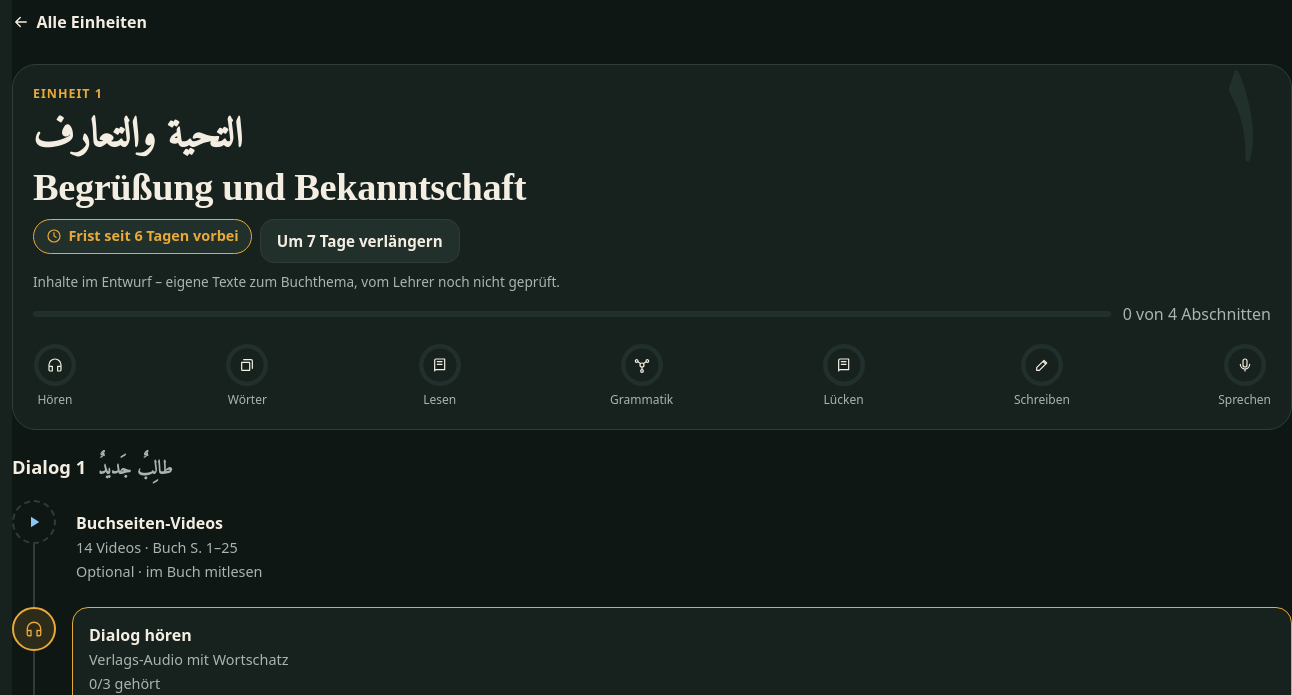
Test: Unit enrollment (integration) › lets an overdue unit be extended once
This screenshot has width=1292, height=695.
Check: the text "Frist seit 6 Tagen vorbei" is shown, box [33,219,252,254]
Click the button "Um 7 Tage verlängern". click: (360, 241)
box: [260,219,460,263]
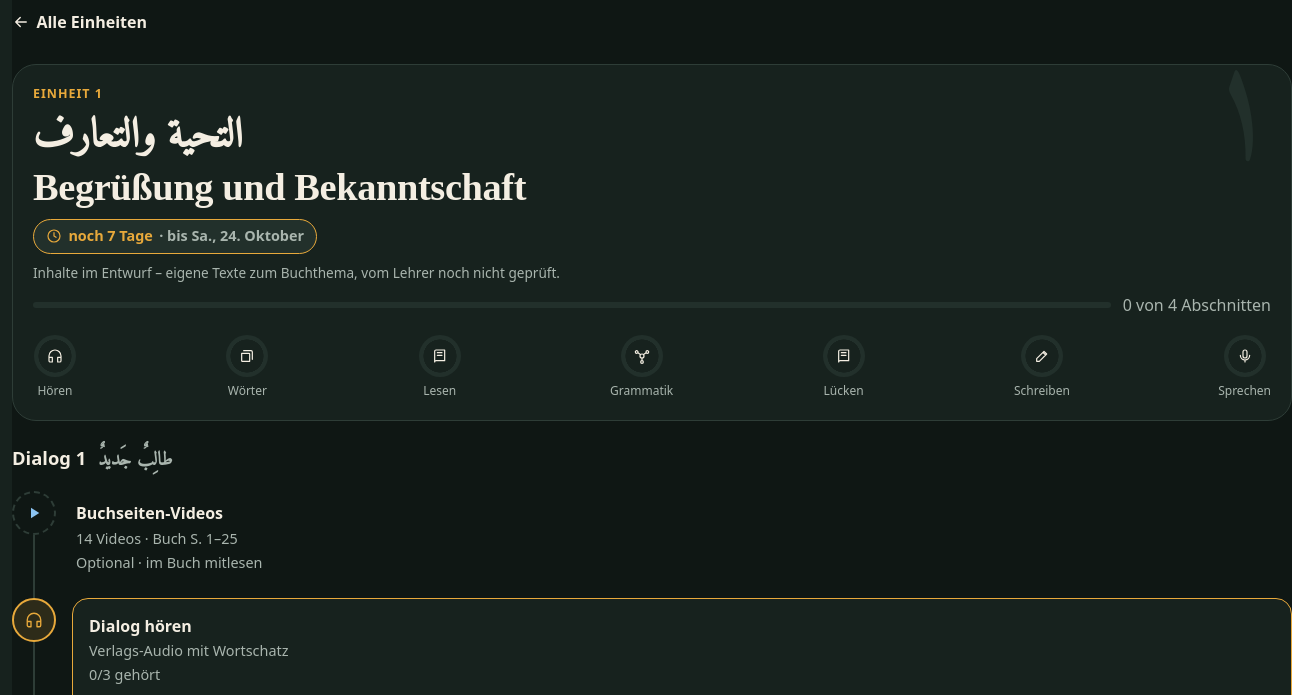
Check: the text "noch 7 Tage" is shown, box [68,226,153,246]
Check: the button "verlängern" is gone
